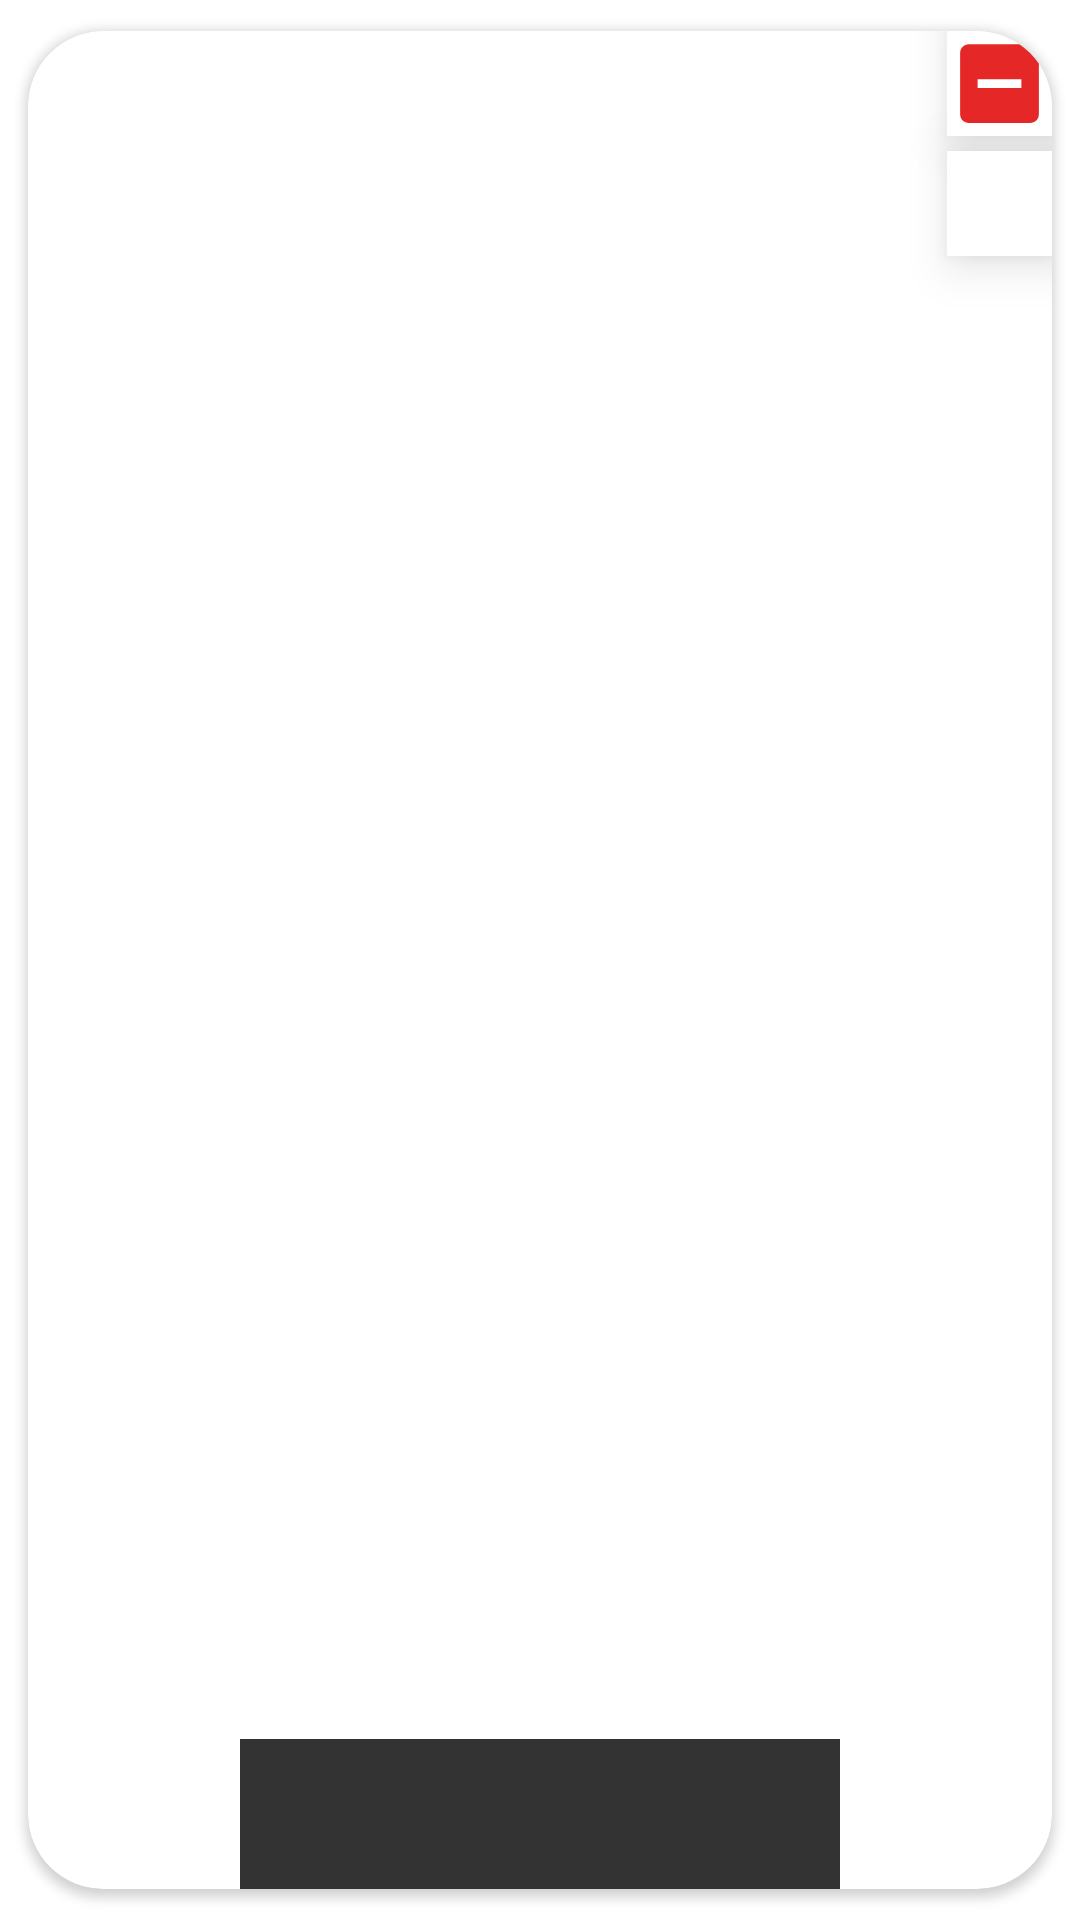

Screen size 1080w x 1920h. Icon name, then its box in pixels as (x1, y1, x2, y2):
indeterminate check box: (960, 42, 1052, 123)
